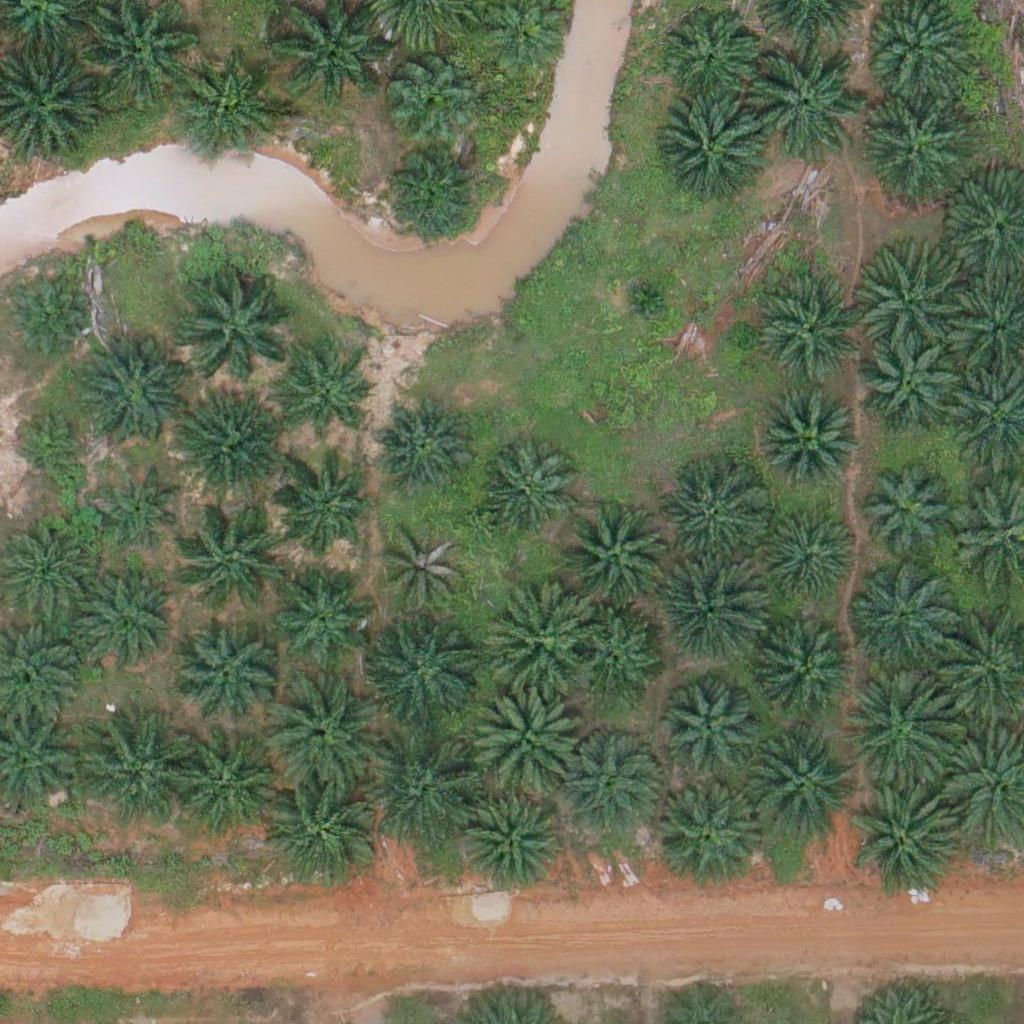Kelapa_Sawit: (839, 675, 952, 789), (655, 776, 768, 890), (742, 728, 855, 842), (653, 97, 766, 210), (654, 555, 767, 668), (266, 776, 379, 889), (179, 266, 292, 379), (73, 339, 186, 452), (846, 559, 958, 673), (178, 497, 290, 611), (76, 714, 188, 828), (851, 786, 963, 899), (857, 88, 969, 201), (857, 236, 969, 349), (745, 45, 857, 158), (559, 499, 671, 612), (482, 582, 594, 695), (469, 680, 581, 793), (371, 735, 483, 848), (367, 614, 479, 727), (265, 676, 377, 789), (166, 733, 278, 846), (169, 394, 281, 507), (858, 464, 958, 565), (859, 334, 959, 435), (660, 7, 760, 108), (660, 685, 760, 786), (561, 729, 661, 830), (475, 440, 575, 541), (271, 460, 371, 561), (173, 622, 273, 723), (73, 573, 173, 674), (760, 285, 860, 385), (761, 394, 861, 494), (761, 510, 861, 610), (757, 626, 857, 726), (663, 470, 763, 570), (460, 792, 560, 892), (381, 142, 481, 242), (372, 395, 472, 495), (271, 564, 371, 664), (178, 63, 278, 163), (571, 613, 659, 701), (385, 49, 473, 137), (96, 467, 184, 555), (1, 275, 89, 363), (381, 526, 468, 614), (283, 356, 370, 444), (13, 406, 88, 481), (618, 272, 668, 323)
